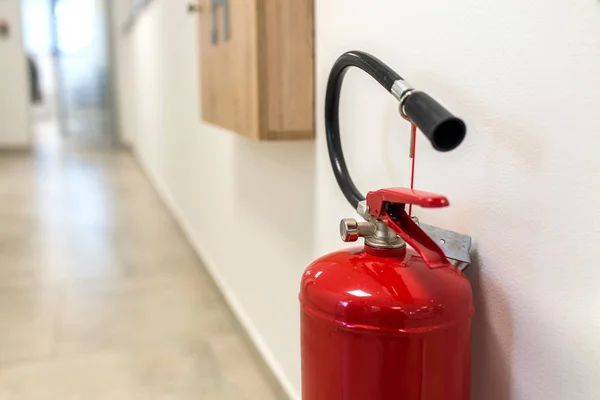fire_extinguisher: (298, 49, 475, 400)
